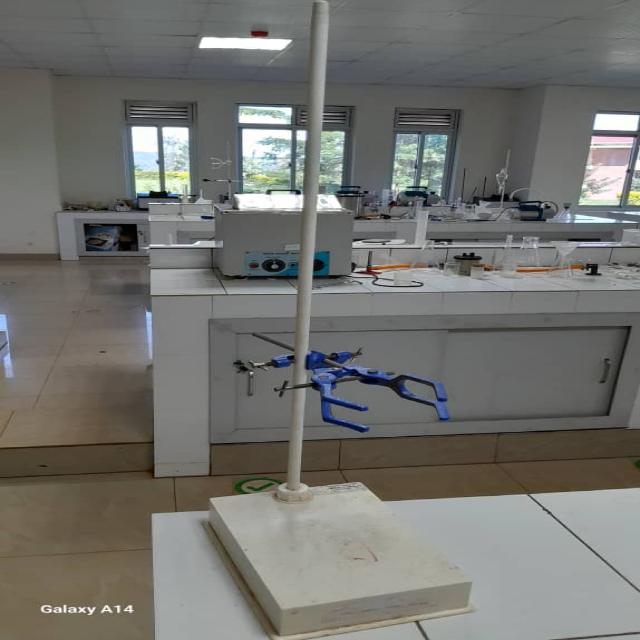Stand: (201, 2, 454, 615)
